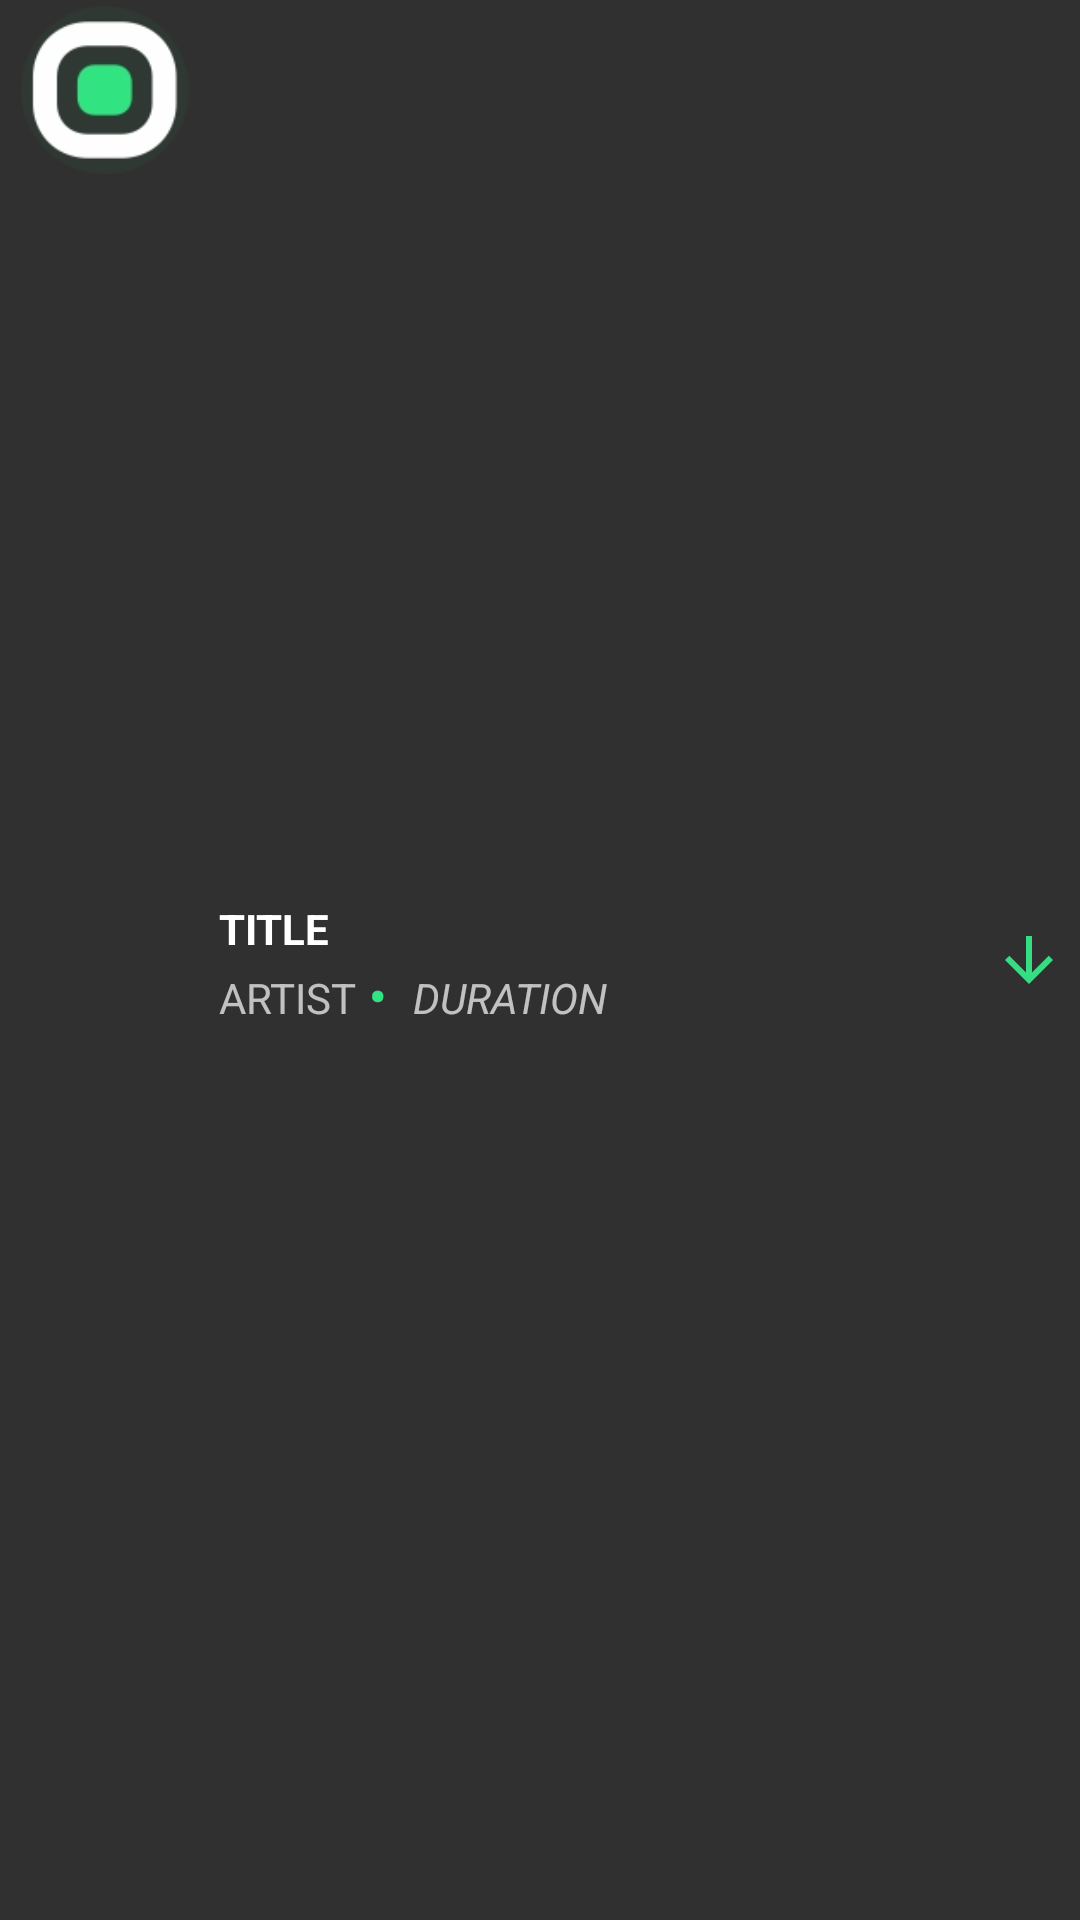

Point at icon controls on the screen. Image size 1080×1920, points as (x,y).
arrow downward: (1029,960)
